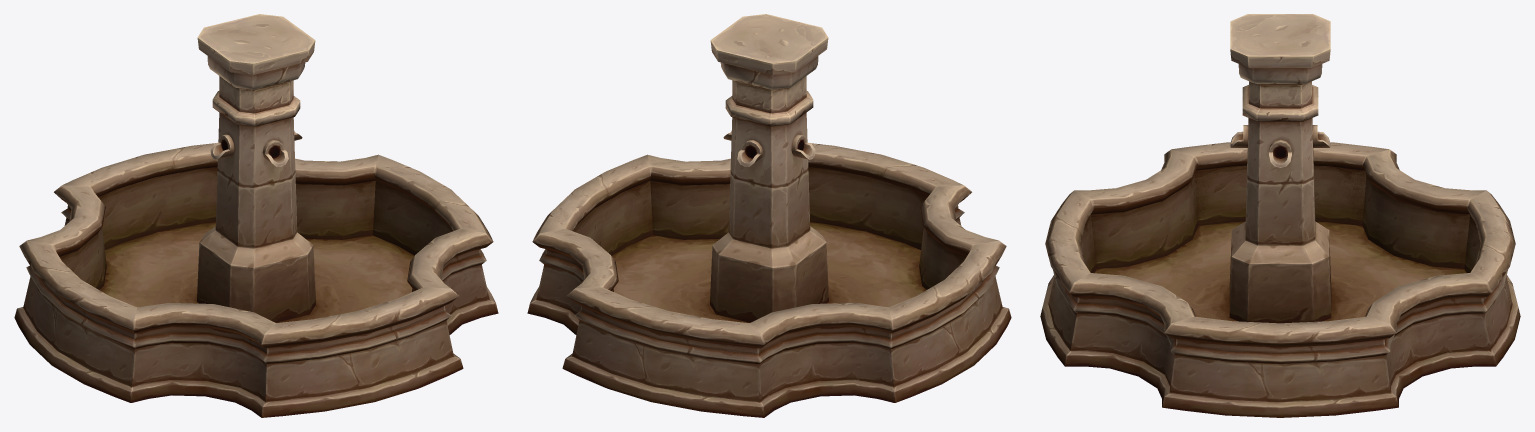
Rendered from Fuente.glb.
The picture shows the model from 3 angles, left to right: view 1: azimuth 30°, elevation 25°; view 2: azimuth 150°, elevation 25°; view 3: azimuth 270°, elevation 25°; orthographic projection.
Visible parts, largest first — view 1: mesh_Fountain:mesh_Fountain; view 2: mesh_Fountain:mesh_Fountain; view 3: mesh_Fountain:mesh_Fountain.
Boxes of the visible parts, <box> form: mesh_Fountain:mesh_Fountain: <box>14,14,498,417</box>; mesh_Fountain:mesh_Fountain: <box>527,14,1011,417</box>; mesh_Fountain:mesh_Fountain: <box>1040,14,1520,417</box>.
Bounding box in the file's own units: 61.6 × 39.8 × 61.6.
Materials: 1 (1 with a texture image).
